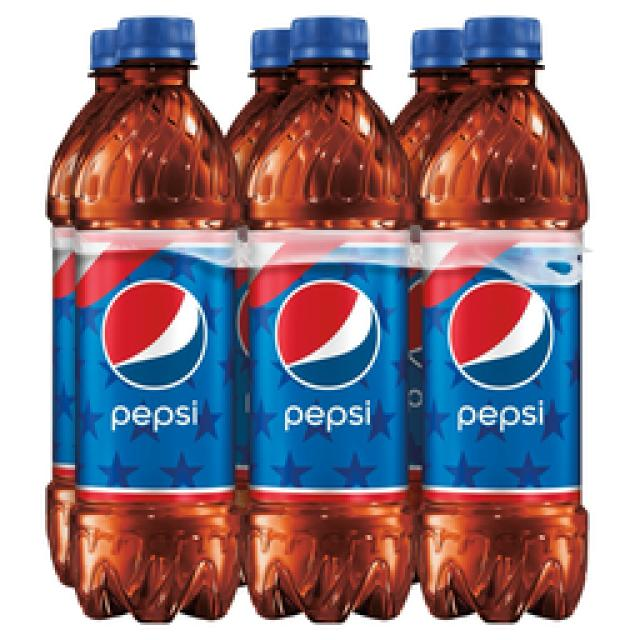plastic_soda_bottles: (422, 19, 589, 620), (75, 17, 234, 622), (257, 18, 413, 626), (45, 28, 126, 586), (390, 18, 467, 182)
